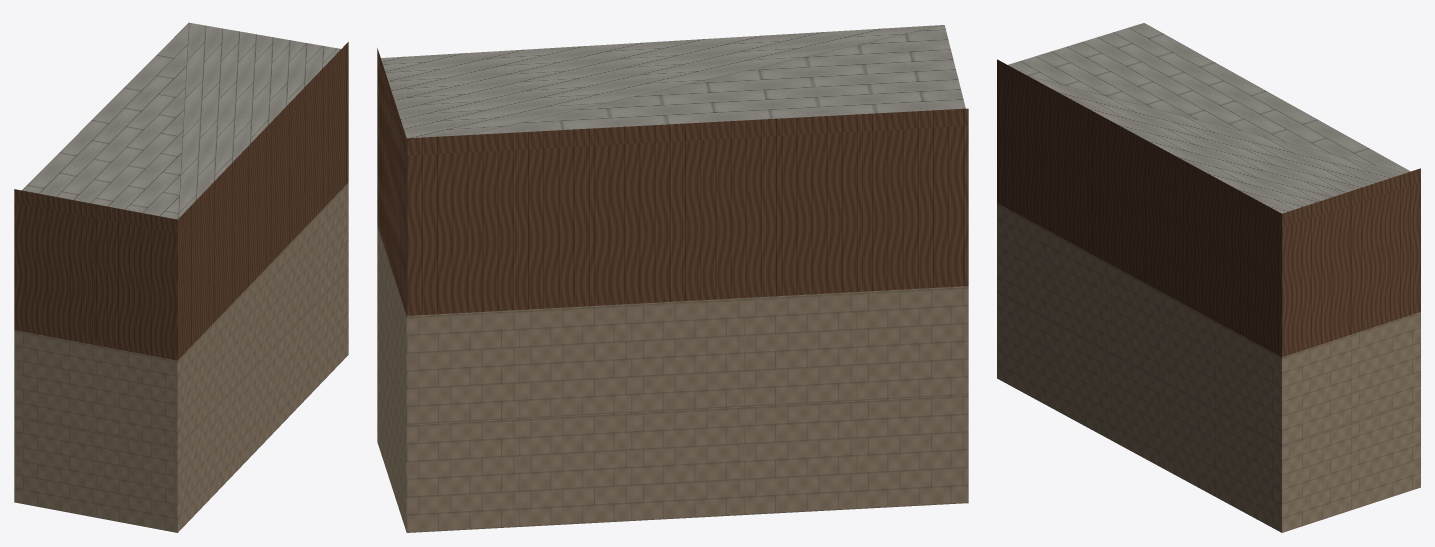
File: bld_c-2_-4_562.gltf
3 renders of one model, left to right at view 1: azimuth 30°, elevation 25°; view 2: azimuth 150°, elevation 25°; view 3: azimuth 270°, elevation 25°, orthographic. The views are drawn at different scales.
Parts seen in each view (by area): view 1: bld_c-2_-4_562; view 2: bld_c-2_-4_562; view 3: bld_c-2_-4_562.
Part boxes in pixels (<box>): bld_c-2_-4_562: <box>14,22,348,532</box>; bld_c-2_-4_562: <box>377,25,968,532</box>; bld_c-2_-4_562: <box>997,23,1420,532</box>.
Size of the model in its own units: 11.65 by 8.68 by 10.44.
4 materials, 4 textured.
